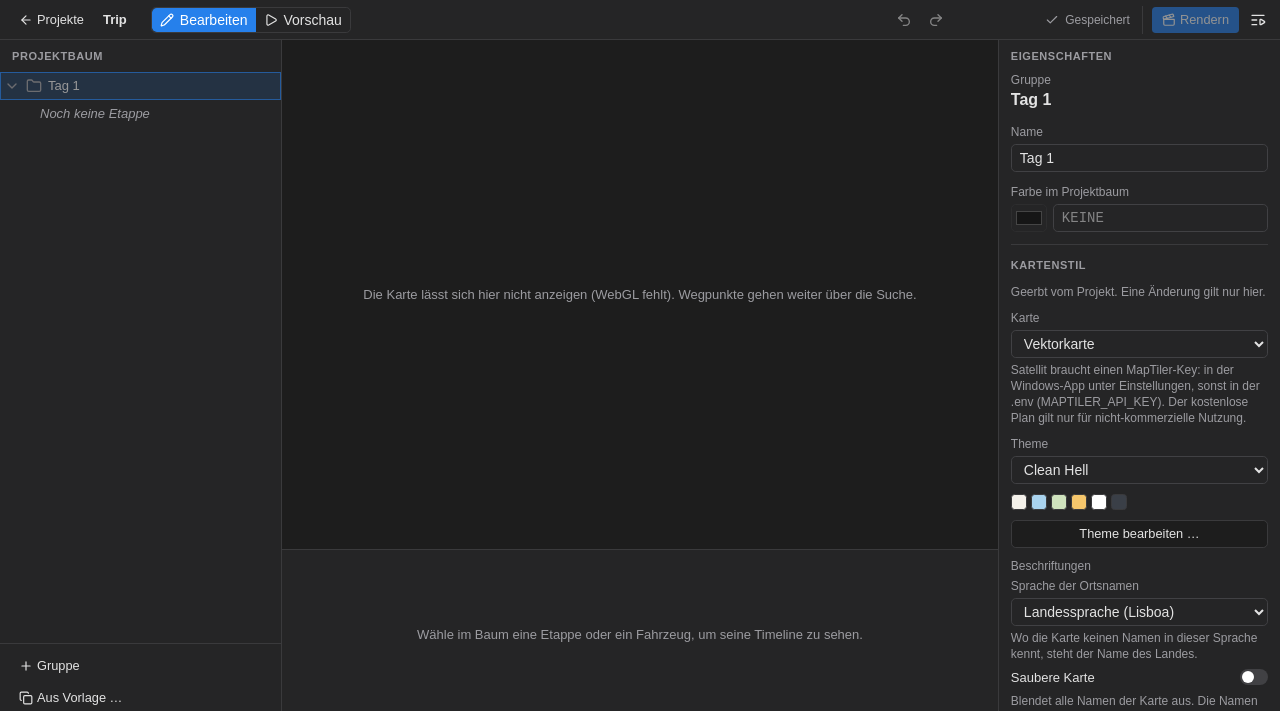
Test: EditorScreen › renames with F2 and undoes it from the header
The width and height of the screenshot is (1280, 711).
Press F2
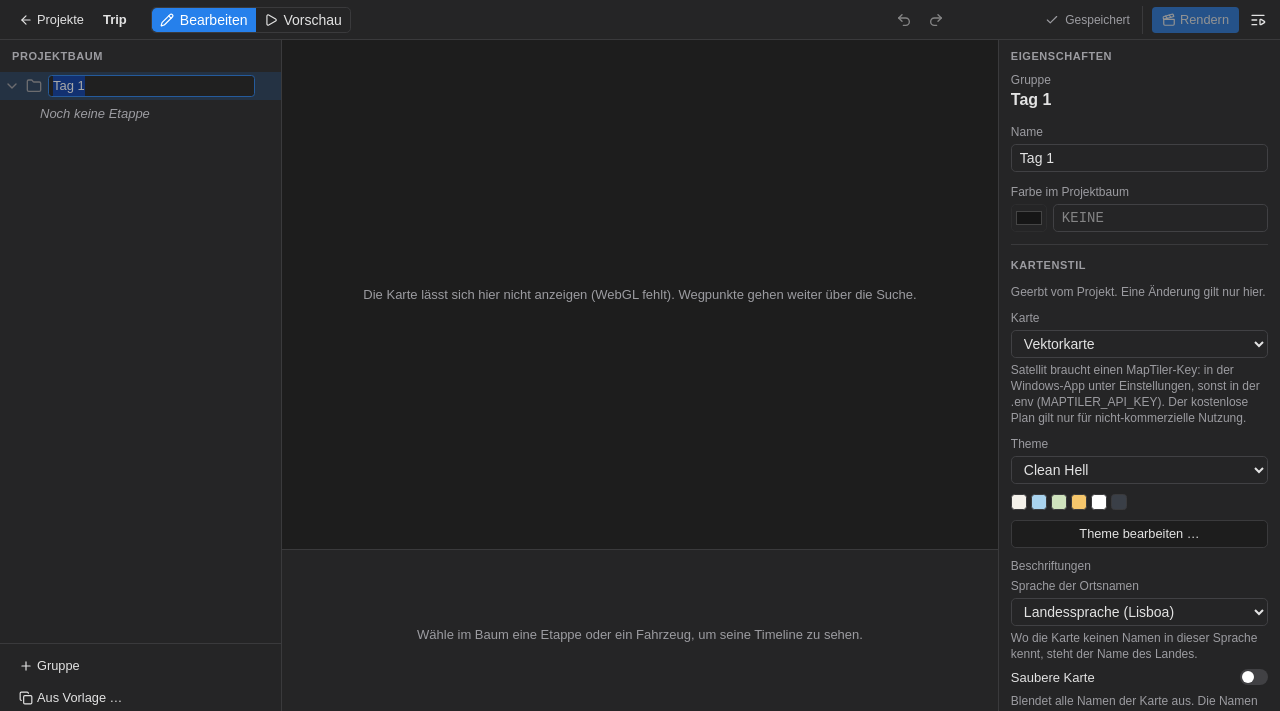
Type keys "{Control>}a{/Control}Tag 2{Enter}"
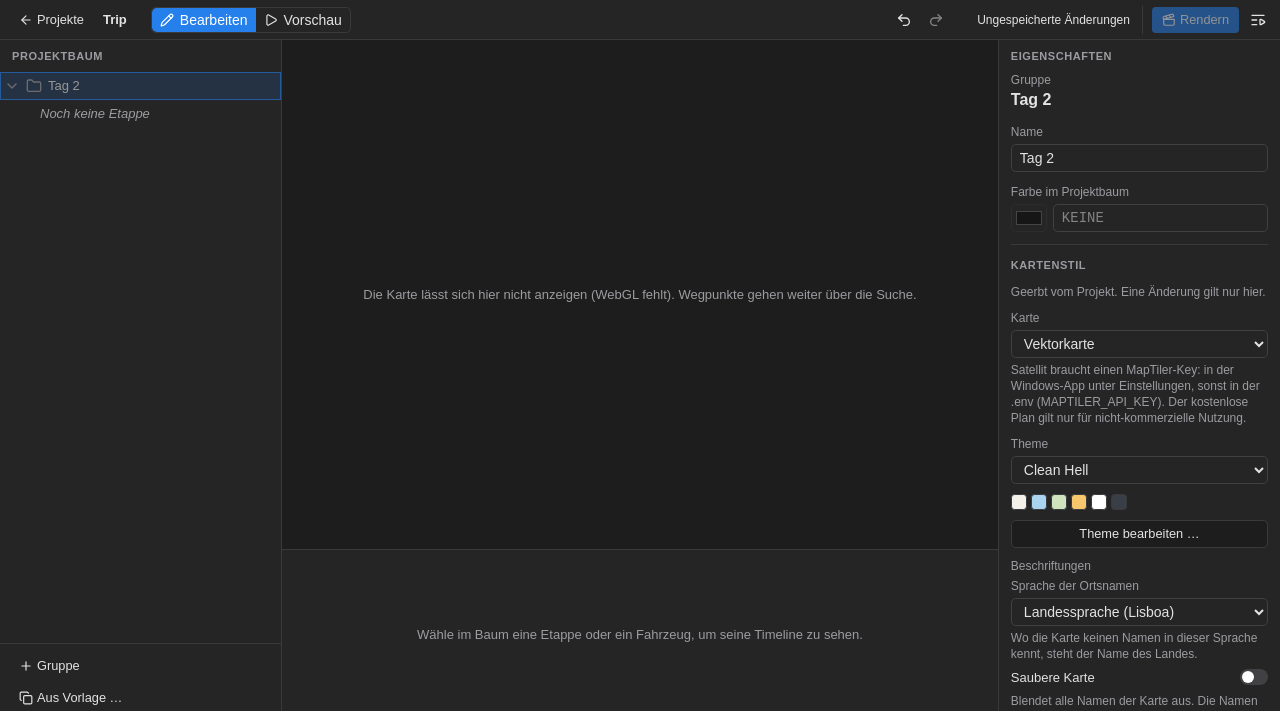
Expected: the list item "Tag 2" is shown, [0,72,281,128]
Click the button named "Rückgängig": click(904, 20) [890,6,918,34]
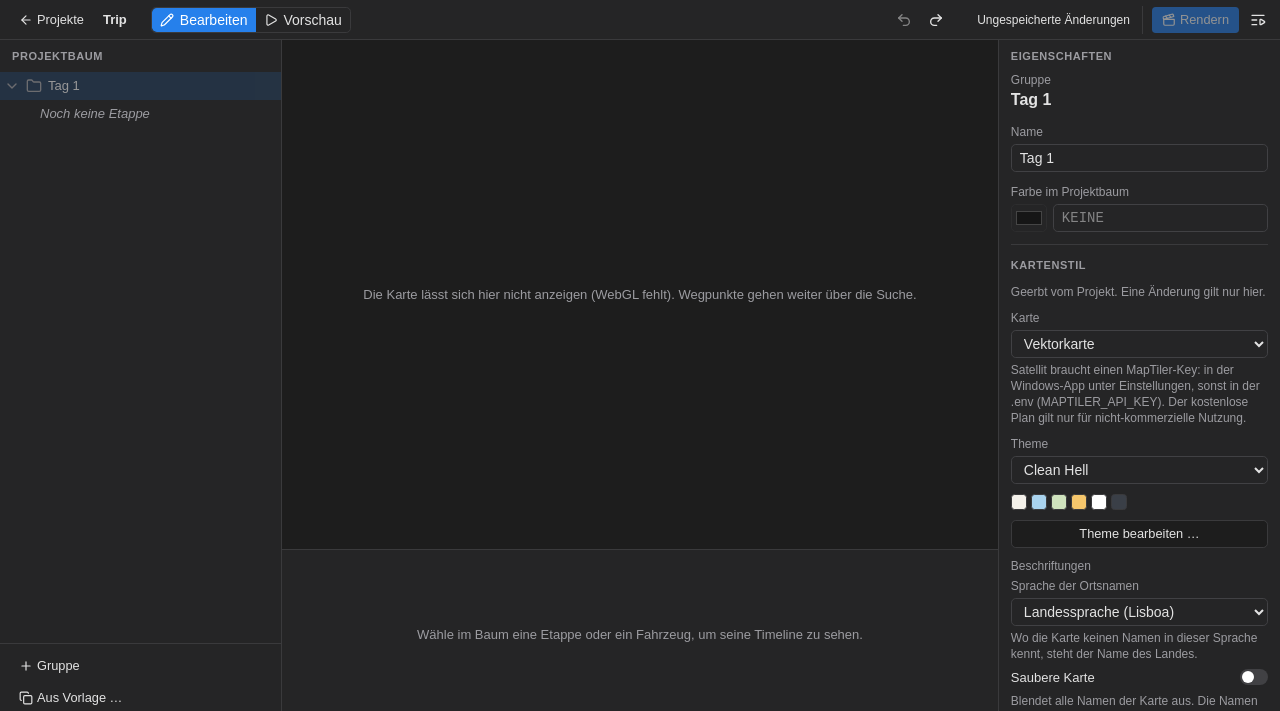
Expected: the list item "Tag 1" is shown, [0,72,281,128]
Click the button named "Wiederholen": click(936, 20) [922,6,950,34]
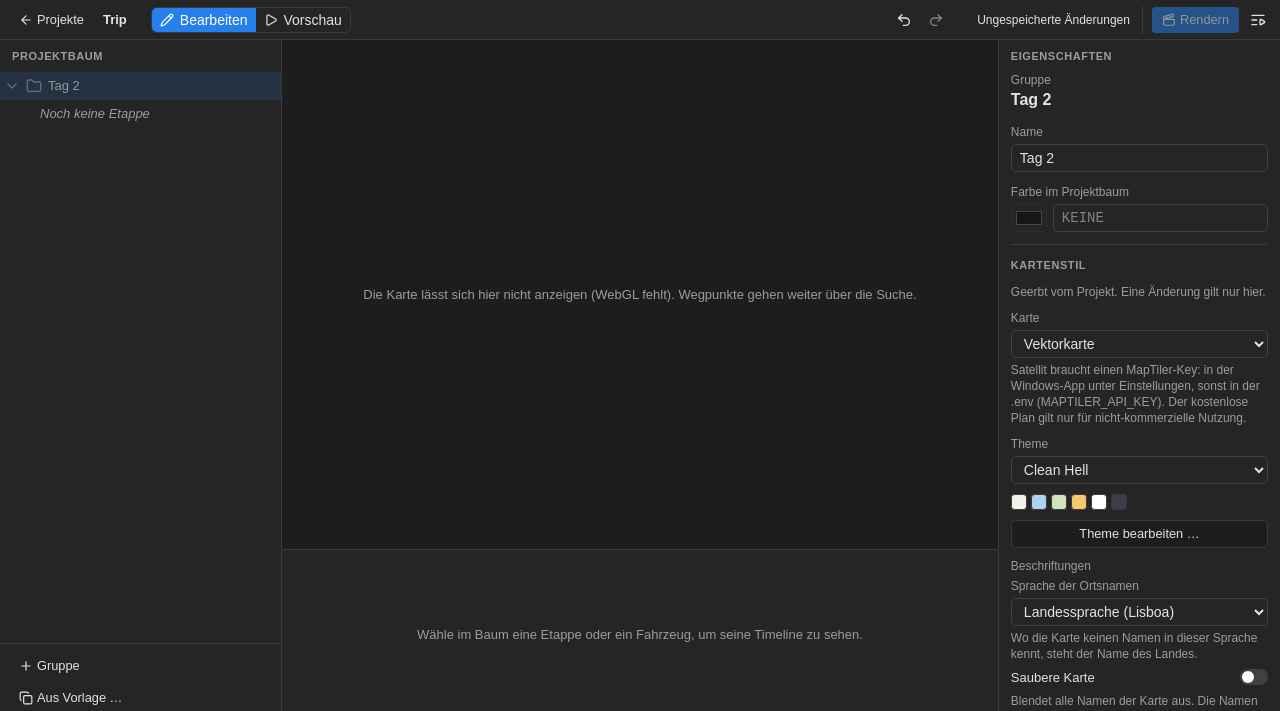
Expected: the list item "Tag 2" is shown, [0,72,281,128]
